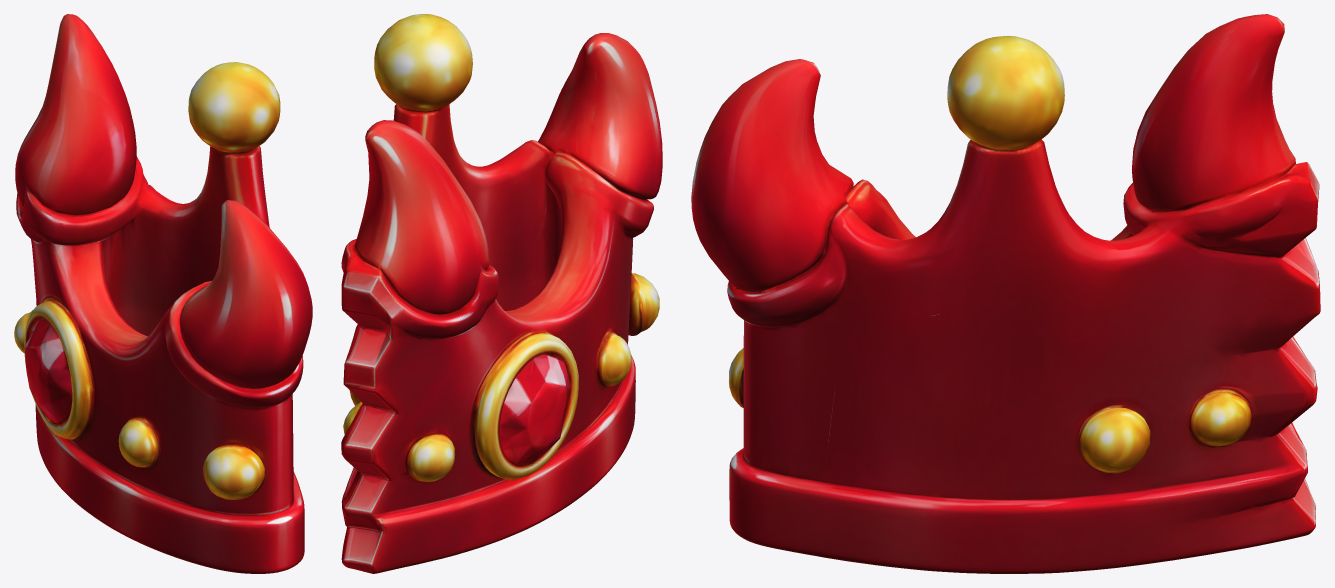
The model's file is Crown_RedHalf_HD_src.glb.
The picture shows the model from 3 angles, left to right: view 1: azimuth 30°, elevation 25°; view 2: azimuth 150°, elevation 25°; view 3: azimuth 270°, elevation 25°; orthographic projection. The views are drawn at different scales.
Parts seen in each view (by area): view 1: tripo_node_e52bc04a-1c77-41c5-8aa6-872048991ab9; view 2: tripo_node_e52bc04a-1c77-41c5-8aa6-872048991ab9; view 3: tripo_node_e52bc04a-1c77-41c5-8aa6-872048991ab9.
Part boxes in pixels (bbox=[...]): tripo_node_e52bc04a-1c77-41c5-8aa6-872048991ab9: bbox=[14, 14, 312, 573]; tripo_node_e52bc04a-1c77-41c5-8aa6-872048991ab9: bbox=[341, 14, 662, 573]; tripo_node_e52bc04a-1c77-41c5-8aa6-872048991ab9: bbox=[691, 14, 1320, 573].
Size of the model in its own units: 0.4594 by 0.9055 by 0.9816.
1 material, 1 textured.
